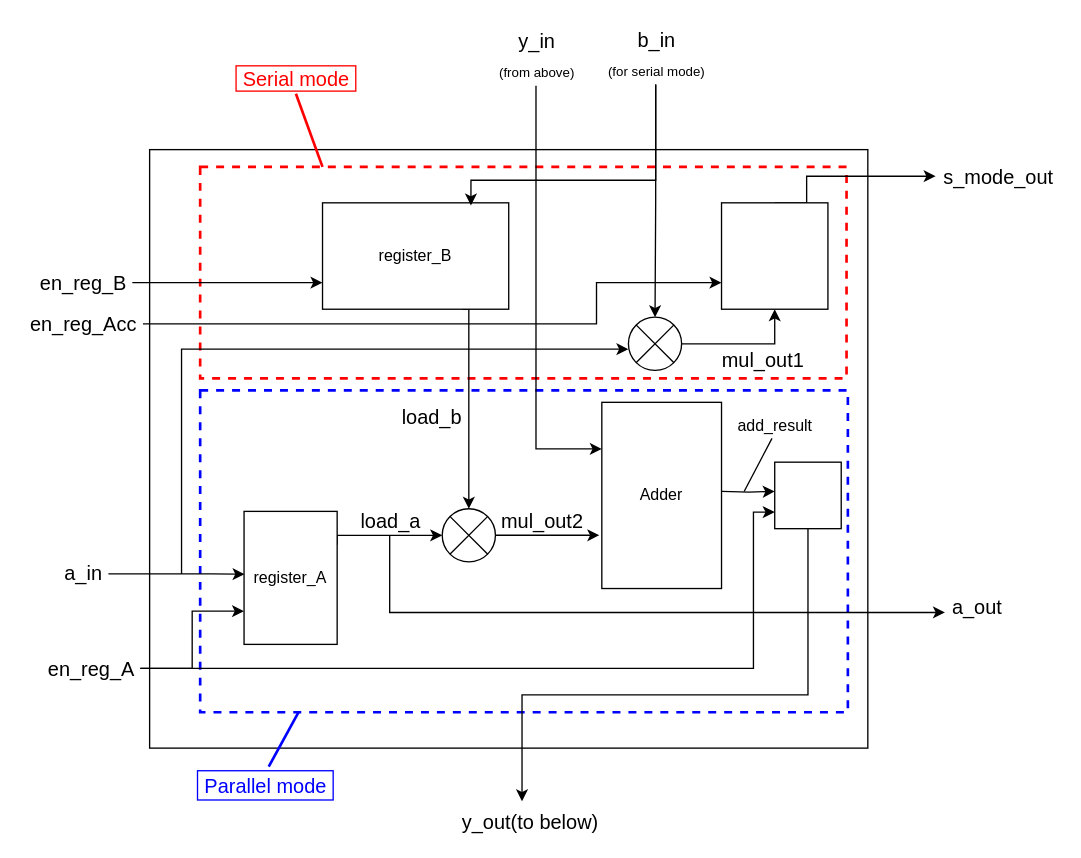
Image size: 1081x858. Some labels were removed from this diagram. Each missing label, with the box of its shape:
Accumulator: (720, 201, 828, 309)
register _Add: (773, 461, 841, 529)
